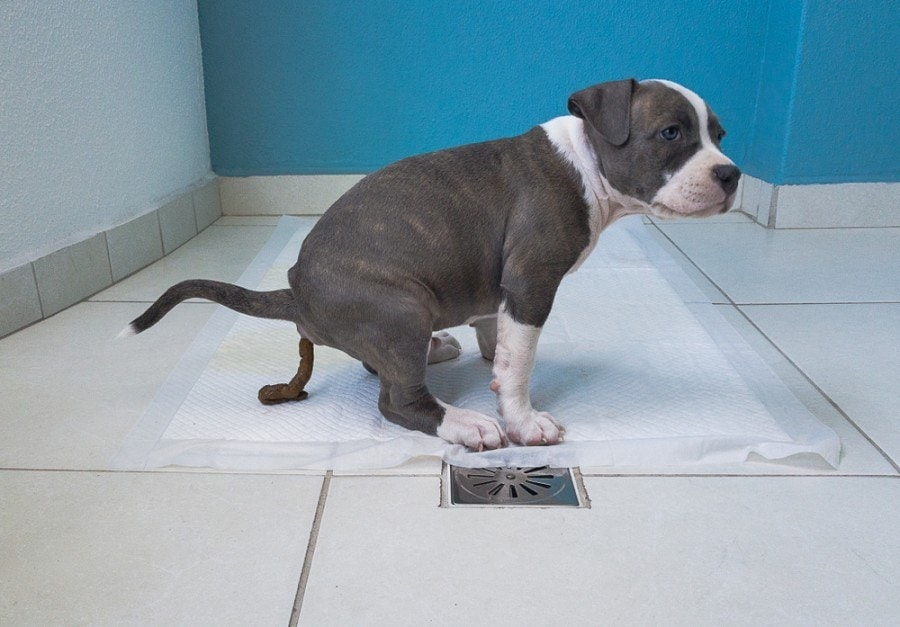dog_pooping: (109, 72, 749, 460)
